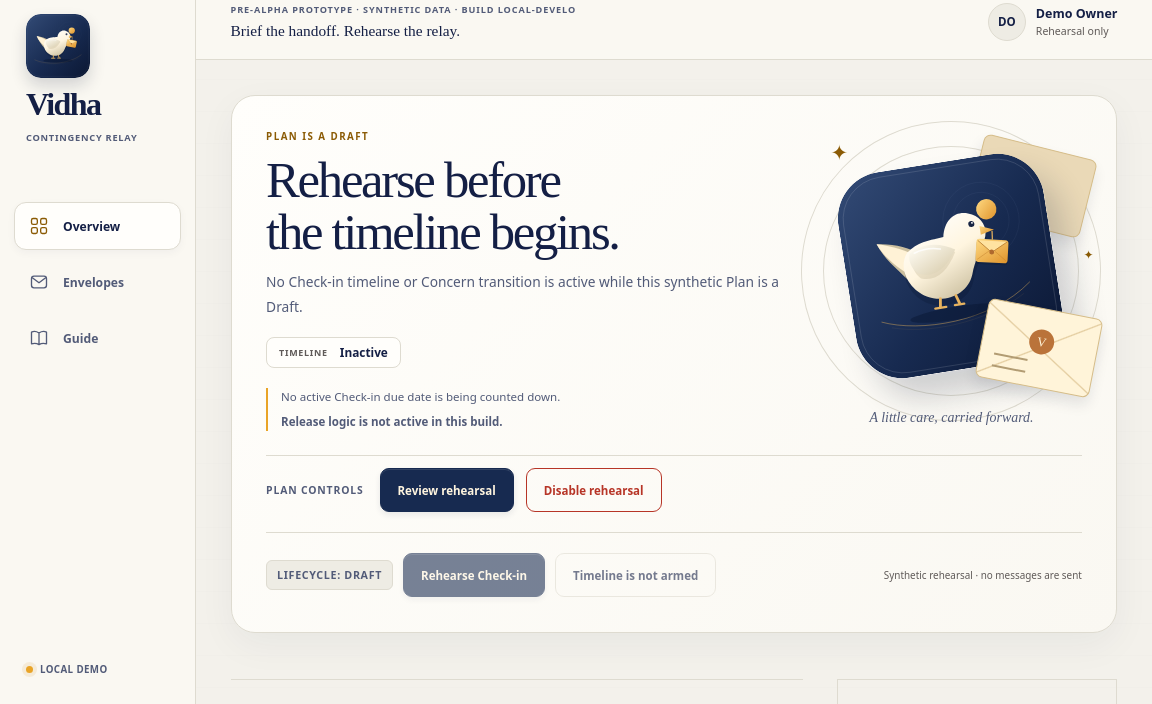
Test: Vidha synthetic foundation app › advances the rehearsal by exactly one stage
The image size is (1152, 704).
Click the button "Review rehearsal" at (447, 490), box [380,468,514,512]
(page scrolled)
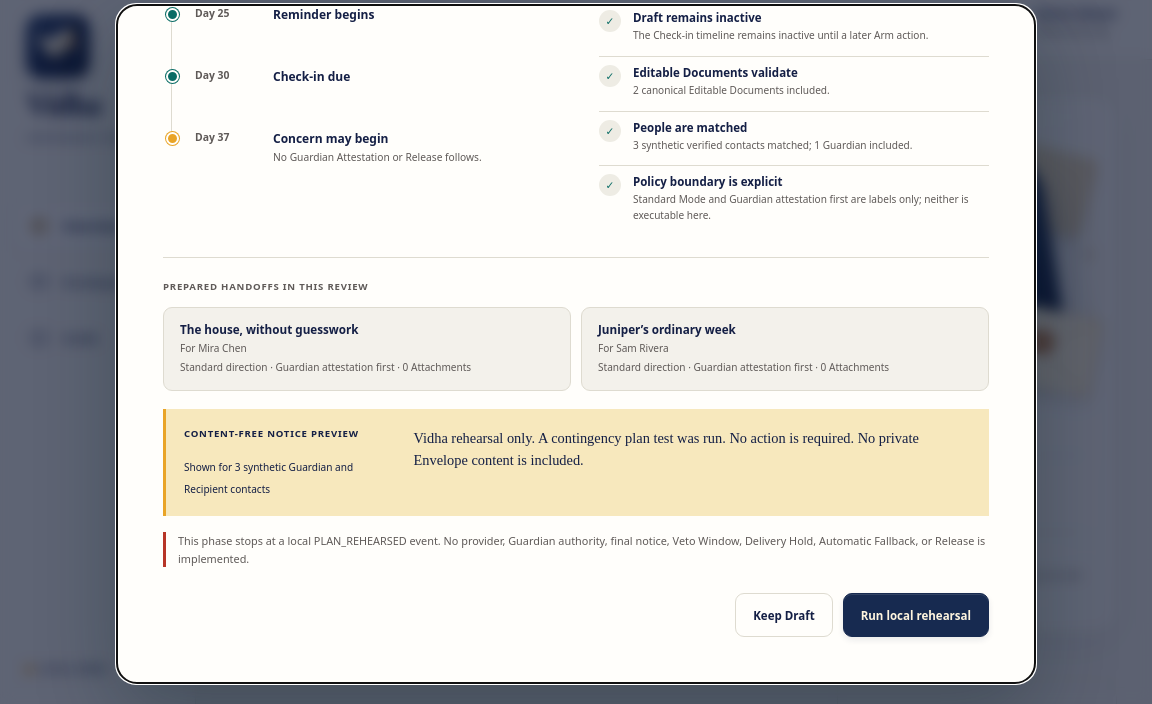
Click the button "Run local rehearsal" at (916, 616), box [843,594,989,638]
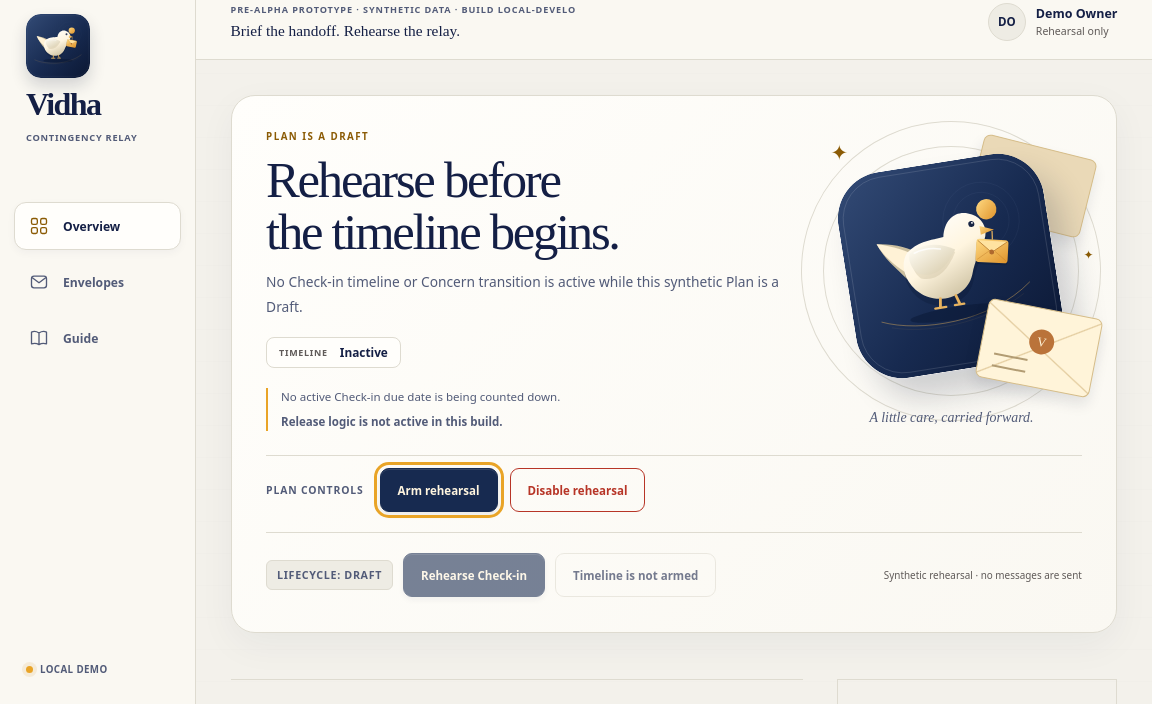
Click the button "Arm rehearsal" at (438, 490), box [380,468,498,512]
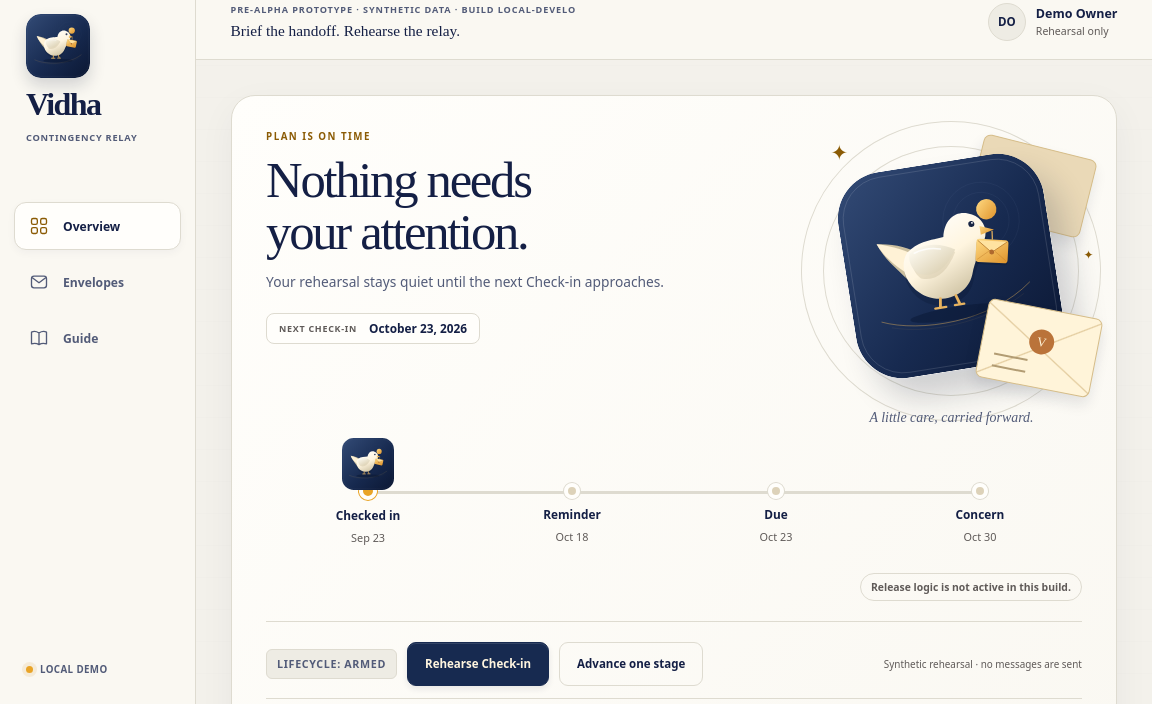
Check: the text "Lifecycle: armed" is shown, box [266,649,397,679]
Click the button "Advance one stage" at (631, 664), box [559,642,703,686]
(page scrolled)
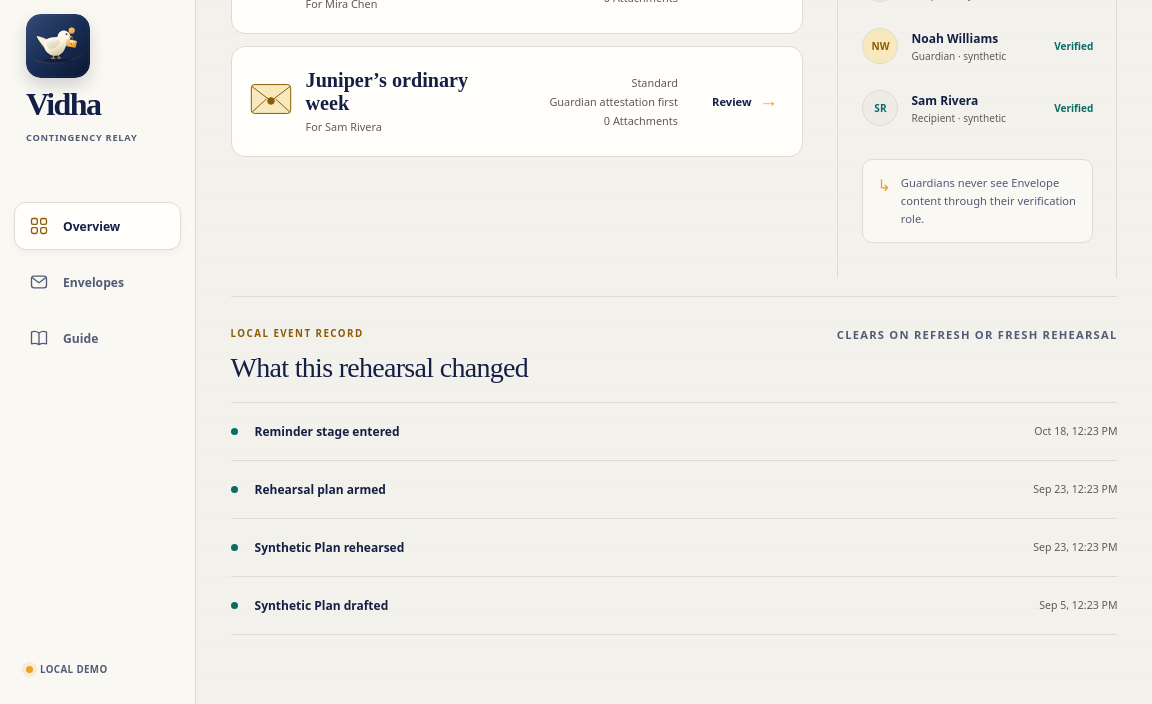
Check: the text "Reminder stage entered" is shown, box [254,423,400,440]
